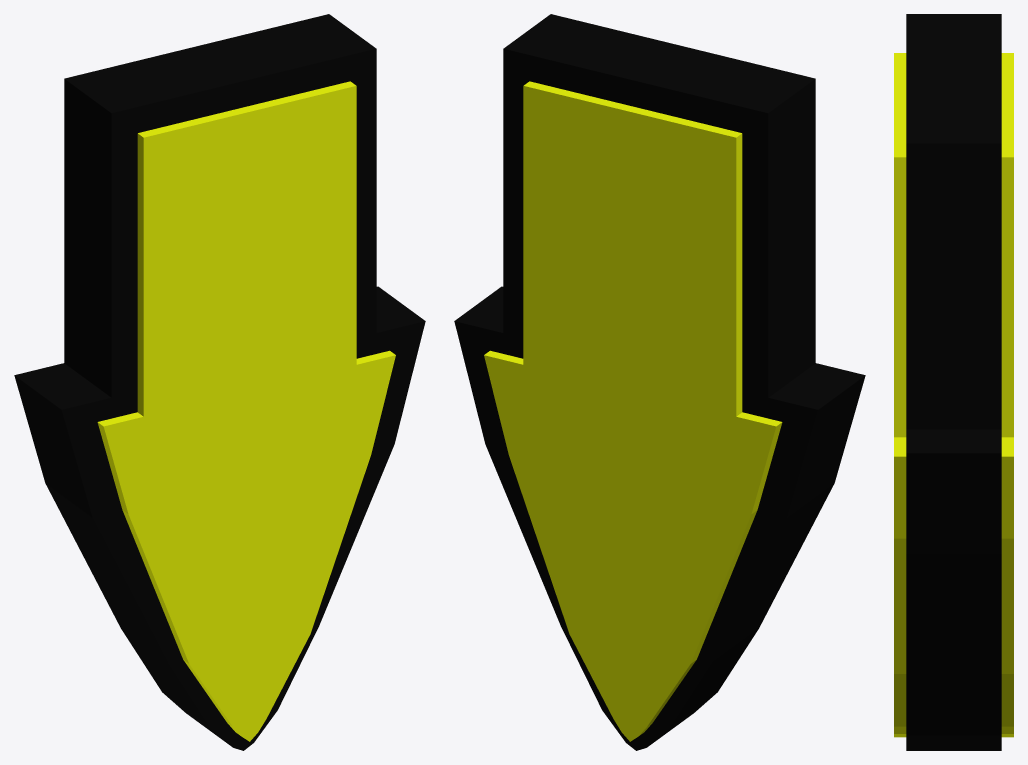
File: arrow.fbx
3 views of the same model, side by side, from view 1: azimuth 30°, elevation 25°; view 2: azimuth 150°, elevation 25°; view 3: azimuth 270°, elevation 25° (orthographic).
Visible parts, largest first — view 1: Arrow; view 2: Arrow; view 3: Arrow.
Part boxes in pixels (box(x1,y1,x2,y2)): Arrow: box(14, 14, 425, 750); Arrow: box(454, 14, 865, 750); Arrow: box(894, 14, 1013, 750).
Size of the model in its own units: 190 by 335 by 54.09.
